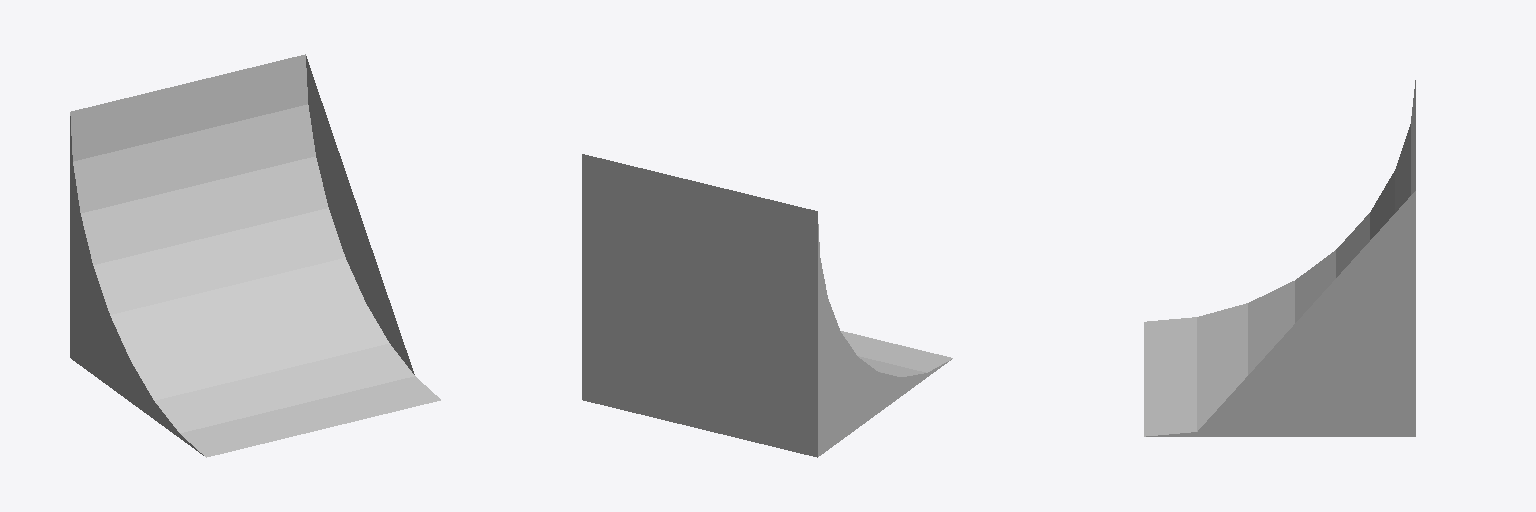
The model's file is quarterpipe1.obj.
3 views of the same model, side by side, from view 1: azimuth 30°, elevation 25°; view 2: azimuth 150°, elevation 25°; view 3: azimuth 270°, elevation 25° (orthographic).
Visible parts, largest first — view 1: Cube; view 2: Cube; view 3: Cube.
Boxes of the visible parts, x1=… form: Cube: x1=70, y1=54, x2=440, y2=457; Cube: x1=582, y1=154, x2=952, y2=457; Cube: x1=1144, y1=80, x2=1415, y2=436.
Bounding box in the file's own units: 10 × 10 × 10.